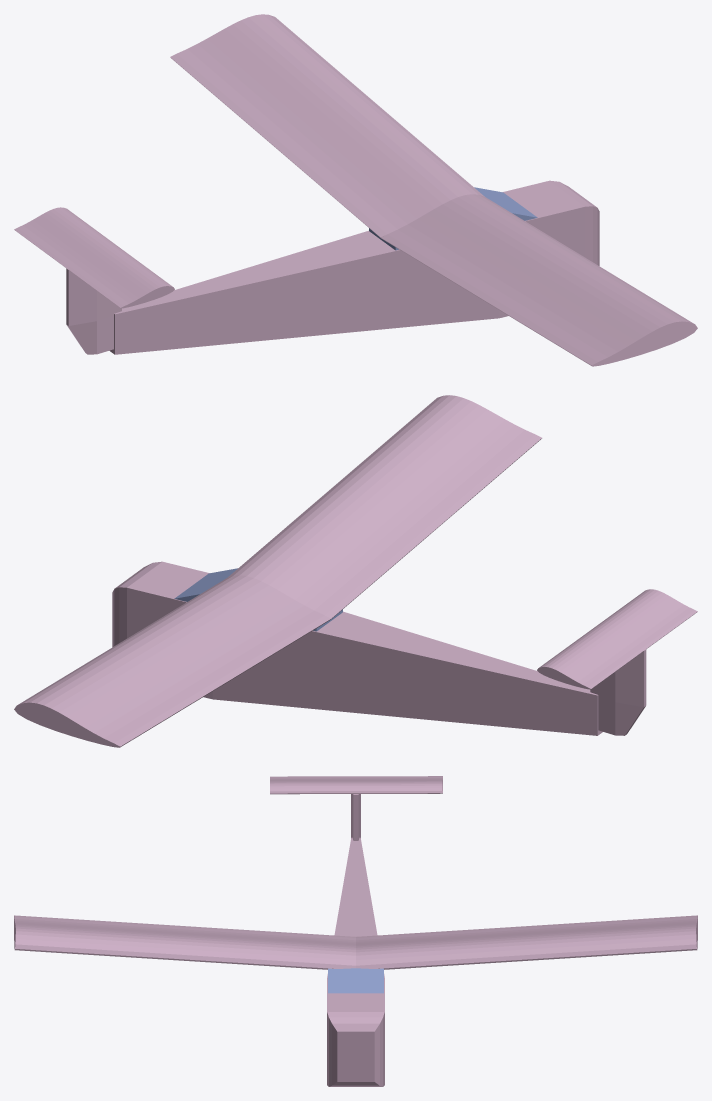
Rendered from glider.gltf.
The picture shows the model from 3 angles, top to bottom: view 1: azimuth 30°, elevation 25°; view 2: azimuth 150°, elevation 25°; view 3: azimuth 270°, elevation 25°; orthographic projection. The views are drawn at different scales.
Parts seen in each view (by area): view 1: Wing, Fuselage, Horizontal_Tail, Vertical_Tail, Wing_Support; view 2: Wing, Fuselage, Horizontal_Tail, Vertical_Tail, Wing_Support; view 3: Wing, Fuselage, Horizontal_Tail, Wing_Support.
Part boxes in pixels (left/top/right/bottom): Wing: left=170, top=14, right=697, bottom=366; Fuselage: left=109, top=180, right=599, bottom=354; Horizontal_Tail: left=14, top=207, right=174, bottom=308; Vertical_Tail: left=66, top=268, right=121, bottom=354; Wing_Support: left=369, top=187, right=537, bottom=250; Wing: left=14, top=395, right=541, bottom=747; Fuselage: left=112, top=561, right=602, bottom=735; Horizontal_Tail: left=537, top=589, right=697, bottom=689; Vertical_Tail: left=590, top=649, right=646, bottom=735; Wing_Support: left=174, top=568, right=342, bottom=631; Wing: left=14, top=915, right=697, bottom=969; Fuselage: left=327, top=837, right=384, bottom=1086; Horizontal_Tail: left=270, top=776, right=442, bottom=794; Wing_Support: left=328, top=968, right=383, bottom=993.
Size of the model in its own units: 12.02 by 3.28 by 16.87.
